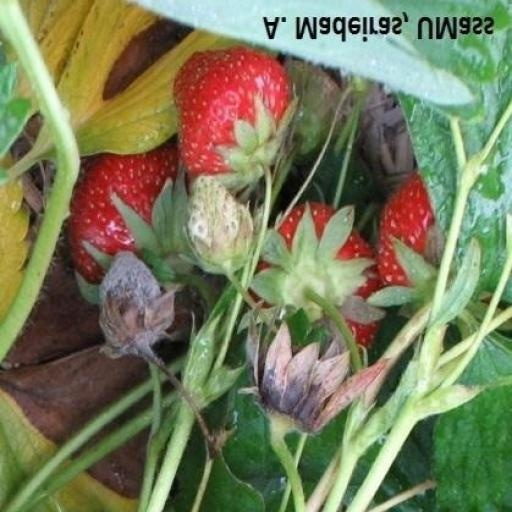Gray Mold: (99, 155, 173, 262)
